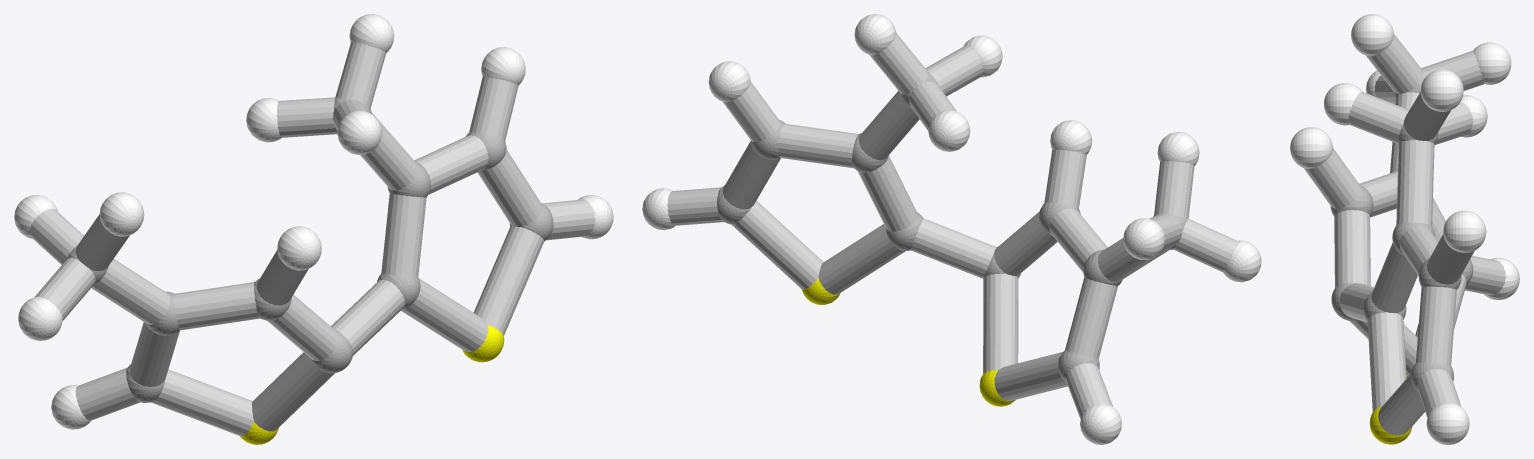
File: Methylthiophene_Phi_50_Theta_150_Methylthiophene.glb
3 renders of one model, left to right at view 1: azimuth 30°, elevation 25°; view 2: azimuth 150°, elevation 25°; view 3: azimuth 270°, elevation 25°, orthographic. The views are drawn at different scales.
Parts seen in each view (by area): view 1: grp7965, grp3621, grp1, grp7241; view 2: grp7965, grp3621, grp1, grp7241; view 3: grp7965, grp3621, grp1, grp7241.
Part boxes in pixels (x1,y1,x2,y2): grp7965: (29,42,595,436); grp3621: (14,14,613,429); grp1: (66,97,553,402); grp7241: (239,325,504,444); grp7965: (667,33,1237,418); grp3621: (642,14,1261,444); grp1: (717,72,1187,381); grp7241: (802,278,1015,406); grp7965: (1304,34,1505,435); grp3621: (1290,14,1519,444); grp1: (1330,77,1473,392); grp7241: (1369,376,1412,444).
Size of the model in its own units: 9.62 by 5.77 by 3.21.
